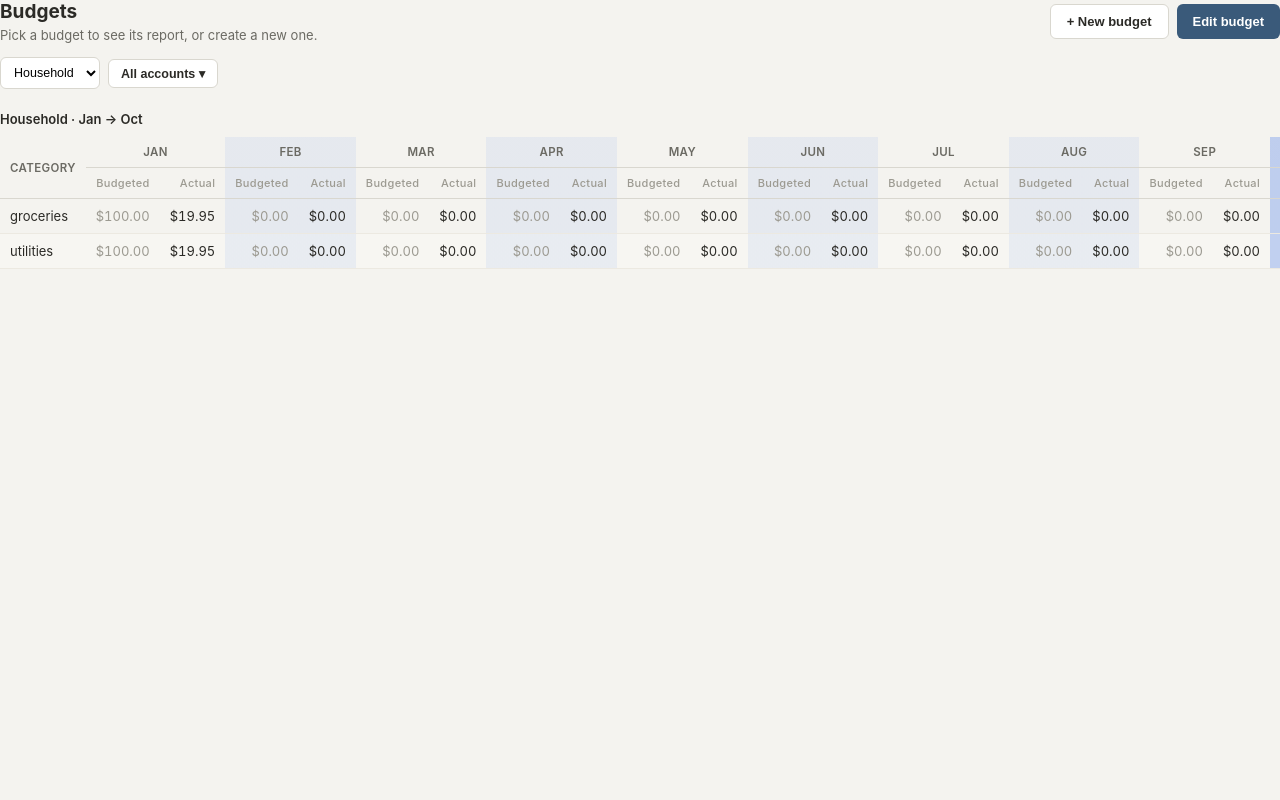
Test case: shows the category total as the sum of its account lines
Expected: the text "groceries" is shown, [0,198,86,234]
Click the button "Edit budget" at (1228, 22), box [1176,4,1279,39]
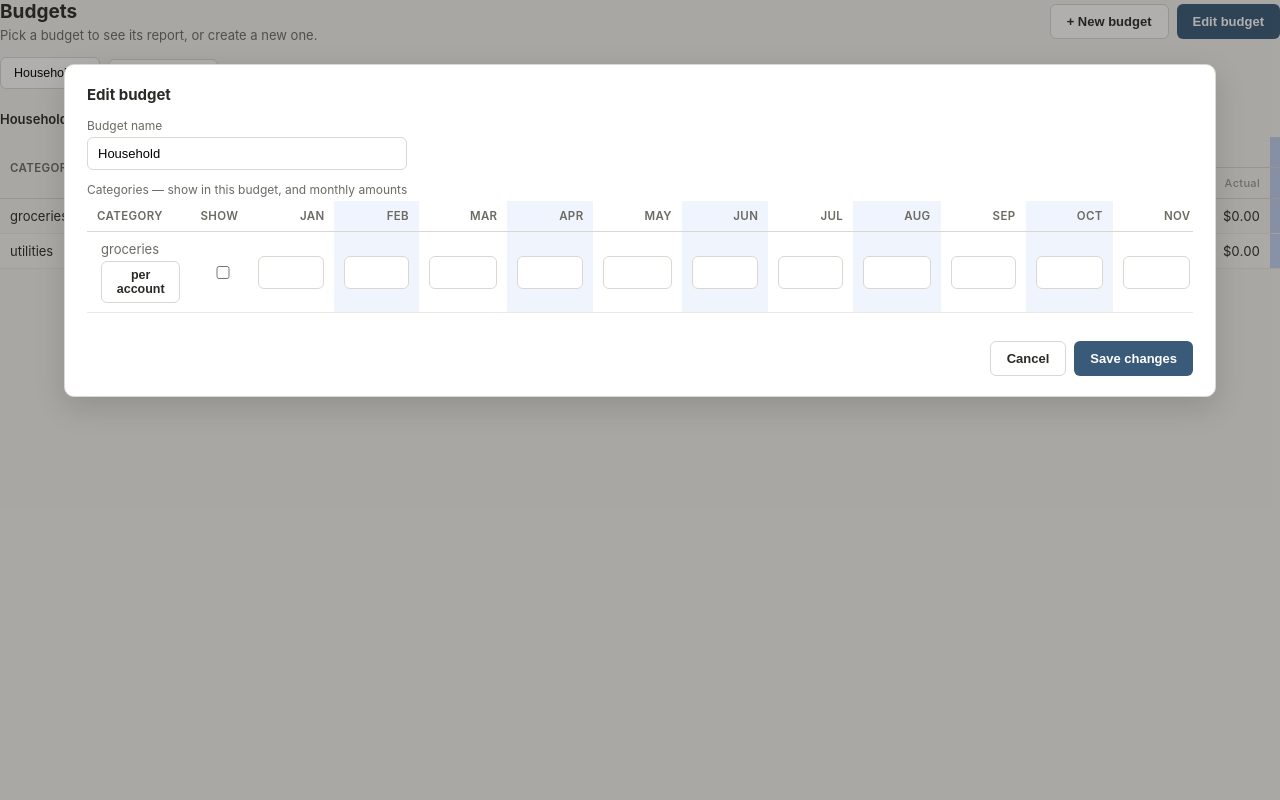
Result: the heading "Edit budget" is shown at [87,85,171,104]
Click the button "per account" at (141, 282), box [101,261,180,303]
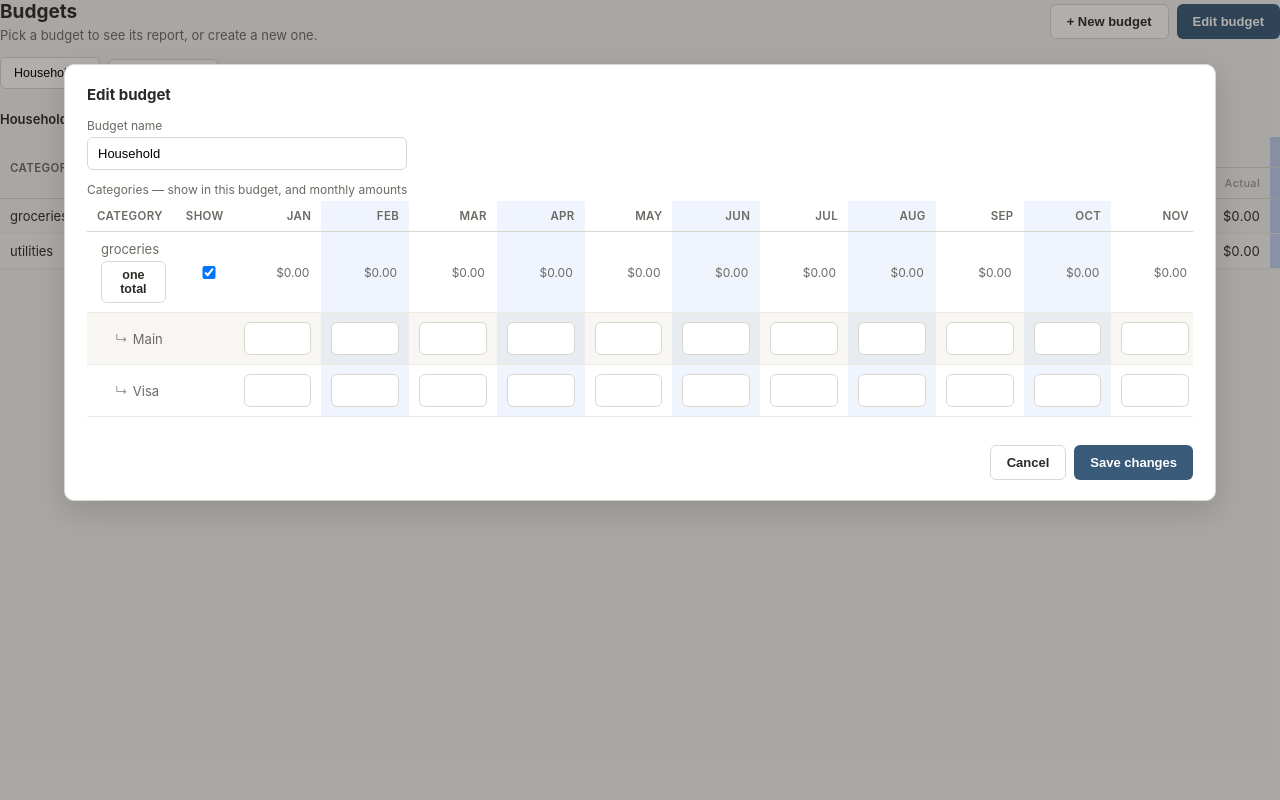
Type "250" into the field named "groceries Main Jan" at (278, 338), box [244,322,311,355]
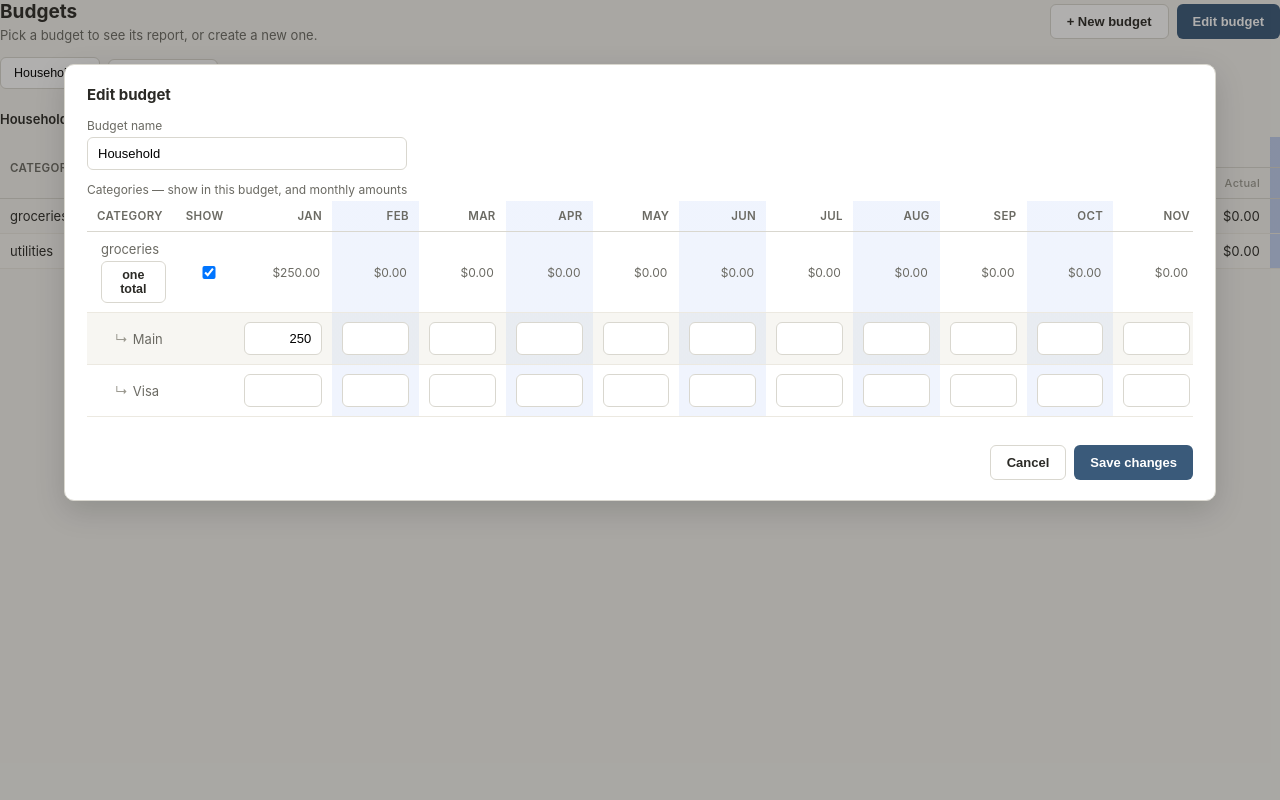
Type "150.50" into the field named "groceries Visa Jan" at (283, 390), box [244,374,322,407]
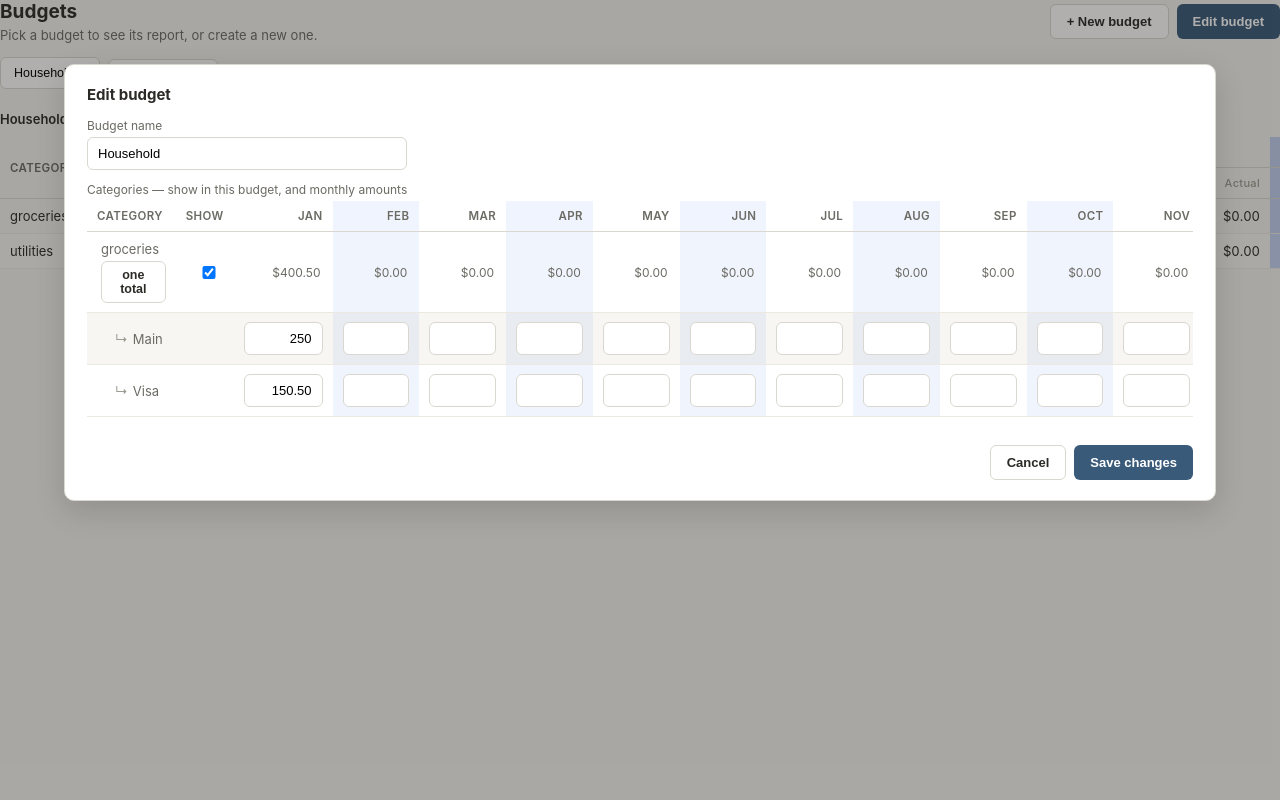
Result: the text "$400.50" is shown at [272,264,321,280]
